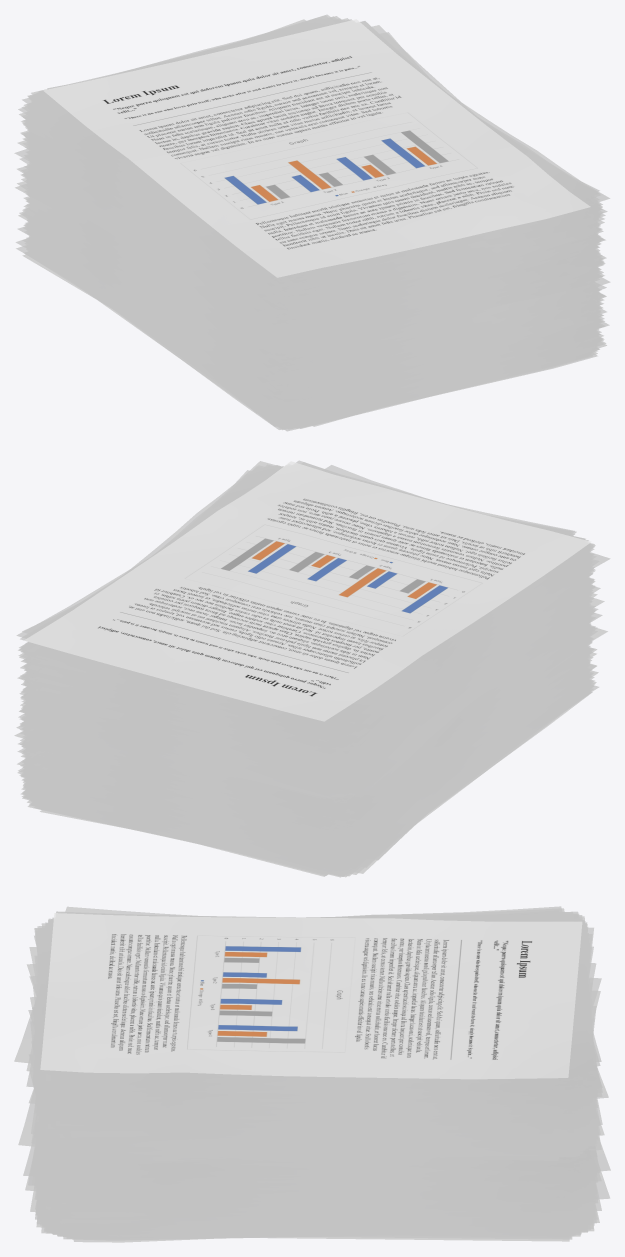
Rendered from updatedpaperpile.gltf.
3 renders of one model, top to bottom at view 1: azimuth 30°, elevation 25°; view 2: azimuth 150°, elevation 25°; view 3: azimuth 270°, elevation 25°, orthographic. The views are drawn at different scales.
Visible parts, largest first — view 1: Pile_9; view 2: Pile_9; view 3: Pile_9.
Part boxes in pixels (bbox=[...]): Pile_9: bbox=[14, 14, 610, 431]; Pile_9: bbox=[14, 460, 610, 877]; Pile_9: bbox=[14, 906, 610, 1242].
Bounding box in the file's own units: 0.255 × 0.1011 × 0.3355.
2 materials, 1 textured.
